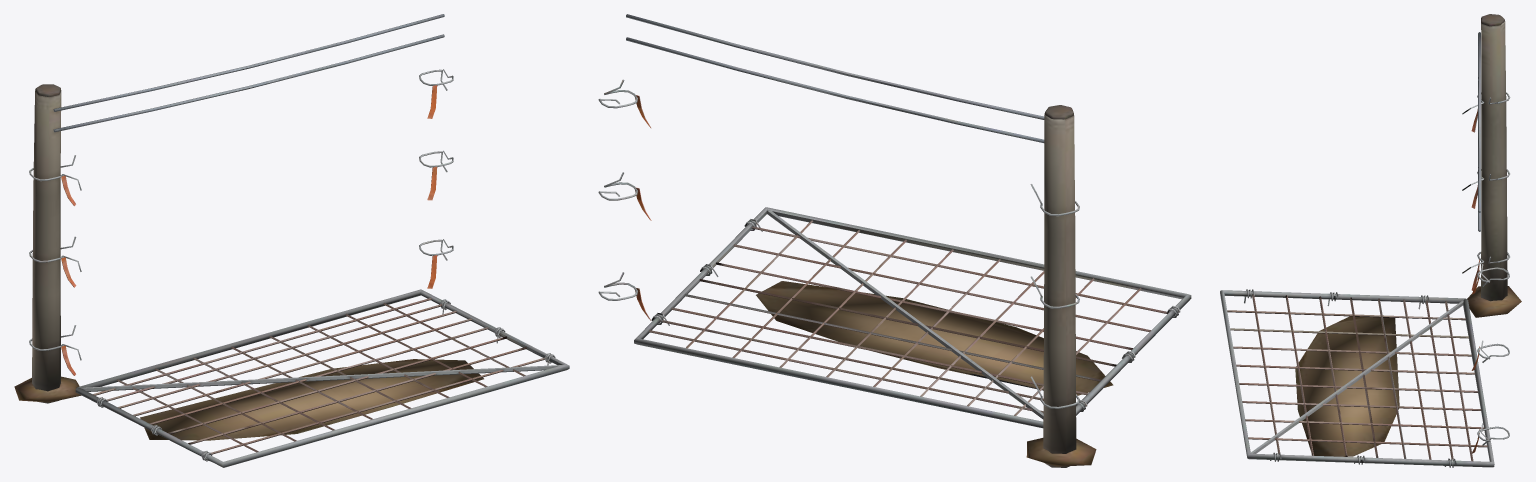
Rendered from pen_fence_cut_open.glb.
The picture shows the model from 3 angles, left to right: view 1: azimuth 30°, elevation 25°; view 2: azimuth 150°, elevation 25°; view 3: azimuth 270°, elevation 25°; orthographic projection. The views are drawn at different scales.
Parts seen in each view (by area): view 1: pen_fence_cut_open; view 2: pen_fence_cut_open; view 3: pen_fence_cut_open.
Boxes of the visible parts, x1=… form: pen_fence_cut_open: x1=14, y1=14, x2=569, y2=467; pen_fence_cut_open: x1=598, y1=14, x2=1191, y2=467; pen_fence_cut_open: x1=1220, y1=14, x2=1521, y2=467.
Bounding box in the file's own units: 3.33 × 2.29 × 2.15.
1 material, 1 textured.
